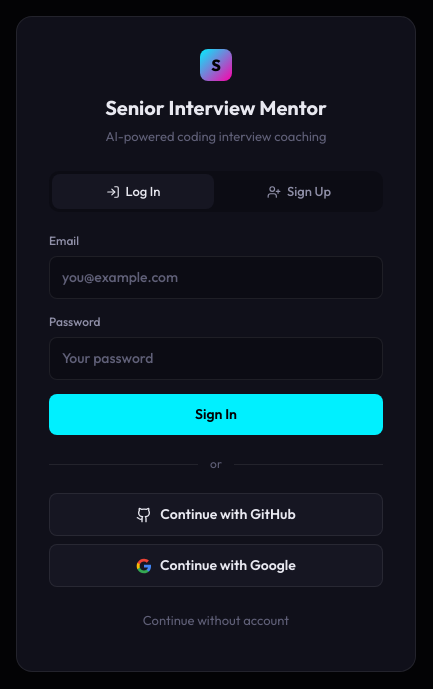
Test: AuthPage › form submission — sign in › shows Signing in... while submitting
Type "a@b.com" into the field with placeholder "you@example.com" at (216, 278), box [49, 256, 383, 299]
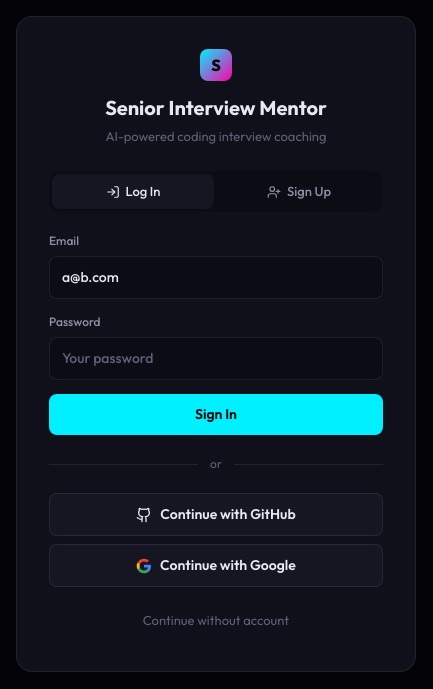
Type "pass123" into the password field with placeholder "Your password" at (216, 359), box [49, 337, 383, 380]
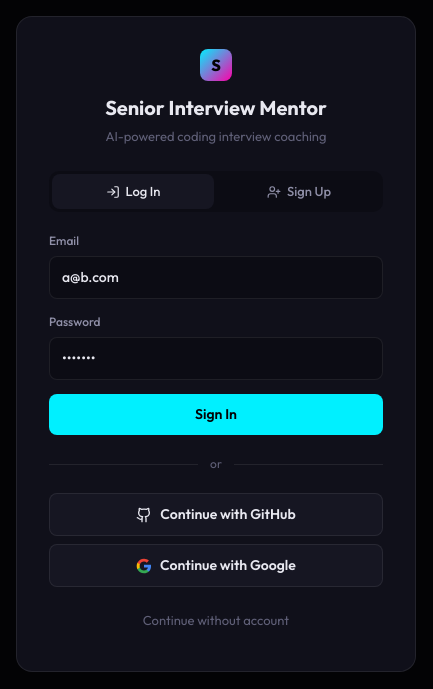
Submit the form "Sign In", box [49, 232, 383, 435]
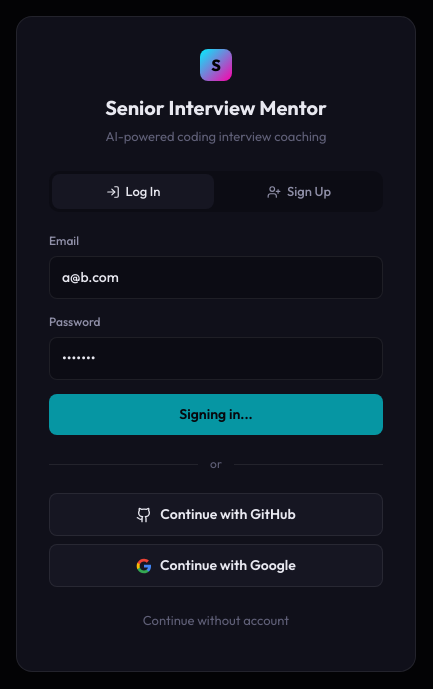
expect the button "Signing in..." is shown: met, box [49, 394, 383, 435]
